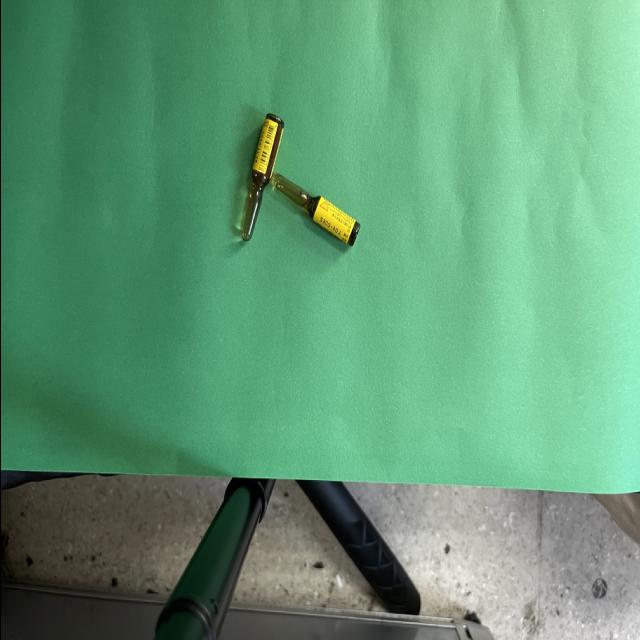Ampoules: (270, 173, 360, 245), (240, 113, 284, 242)
